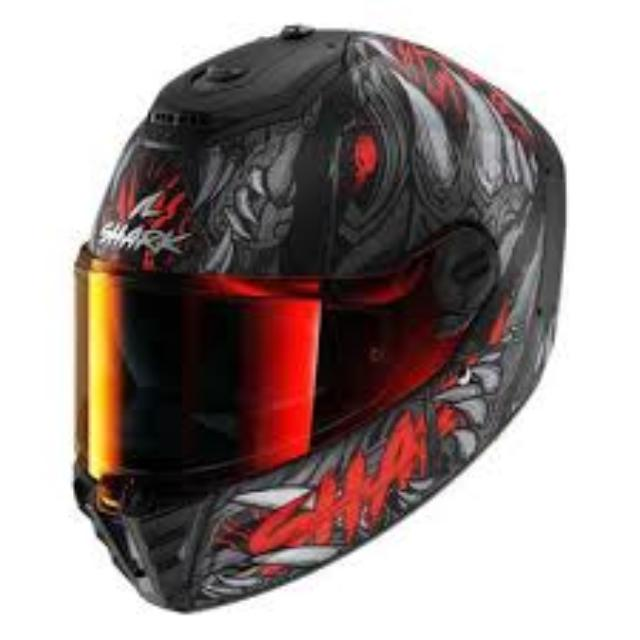motorcycle-helmets: (36, 3, 576, 623)
